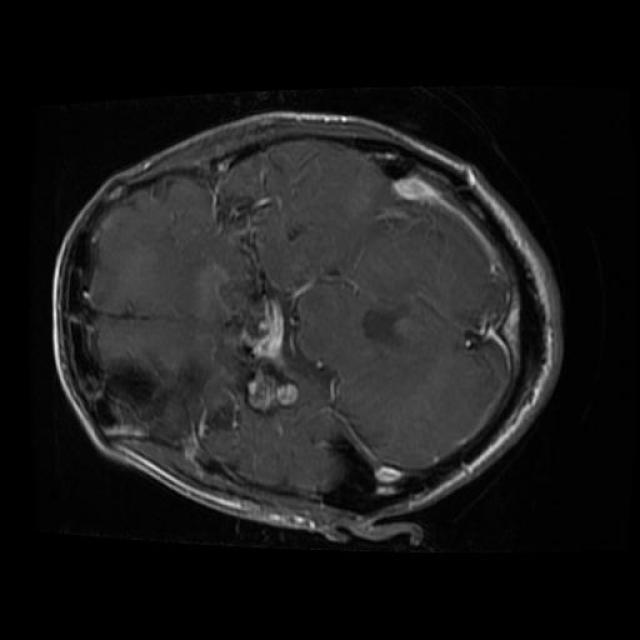Glioma: (95, 352, 221, 468), (231, 346, 298, 428)
